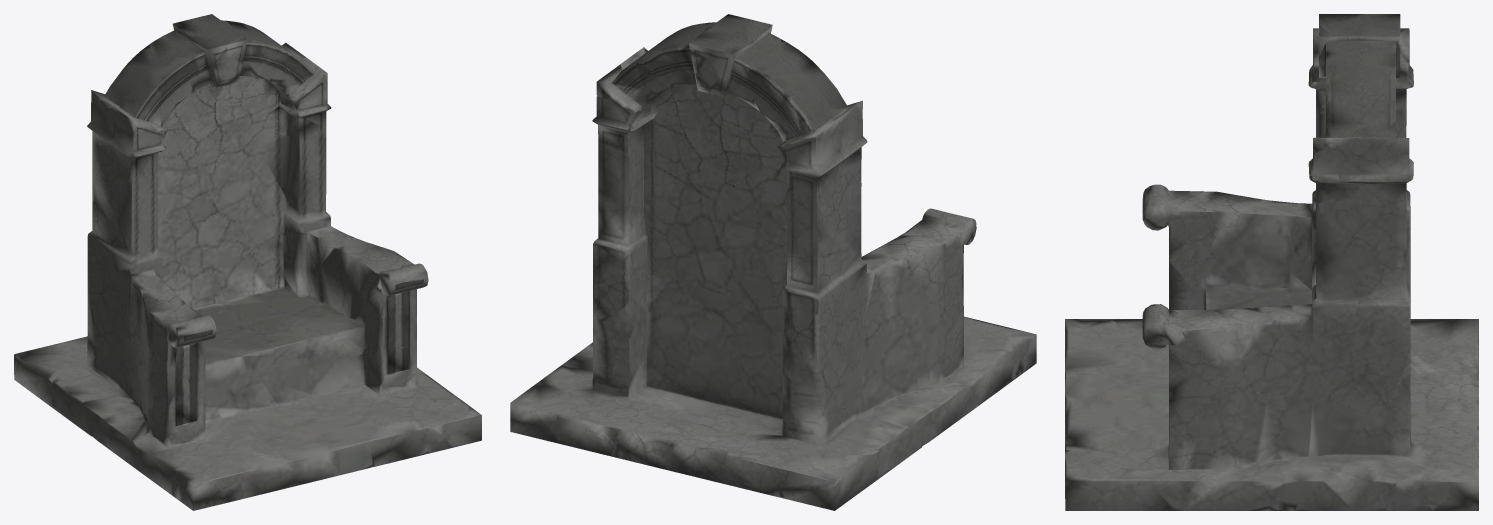
The model's file is marble-throne.glb.
3 renders of one model, left to right at view 1: azimuth 30°, elevation 25°; view 2: azimuth 150°, elevation 25°; view 3: azimuth 270°, elevation 25°, orthographic. The views are drawn at different scales.
Bounding box in the file's own units: 1.64 × 1.9 × 1.76.
1 material, 1 textured.
